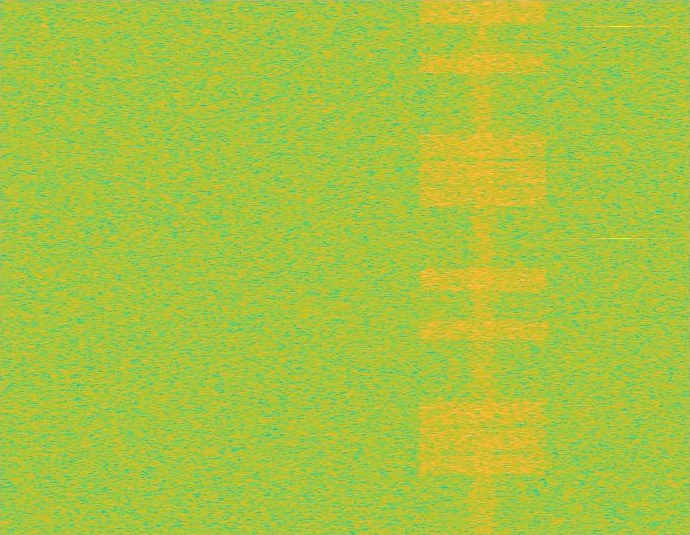DSSS: (467, 0, 499, 534)
LTE: (414, 0, 552, 534)
Radar: (613, 0, 627, 534)
